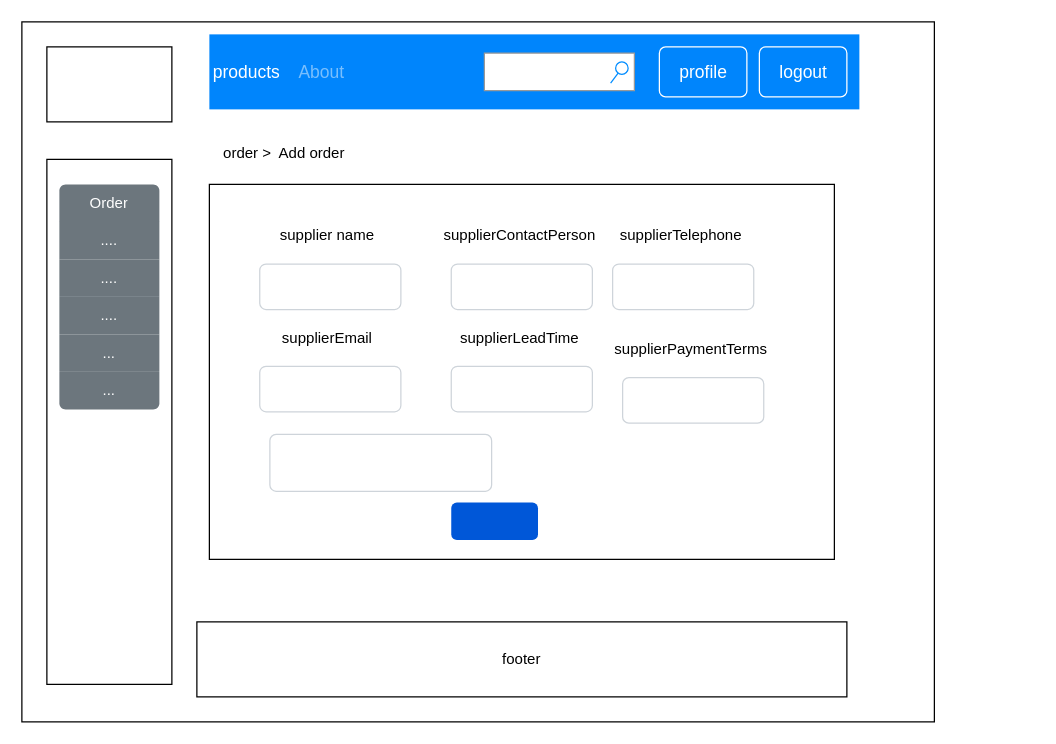
Image size: 1056x744. Some labels were removed from this diagram. Here are the shapes that lost their labels. From the top down, the centre of each, then its label:
At pixel 109 84: "Logo".
At pixel 558 71: "Search".
At pixel 380 462: "Address".
At pixel 494 520: "submit".
